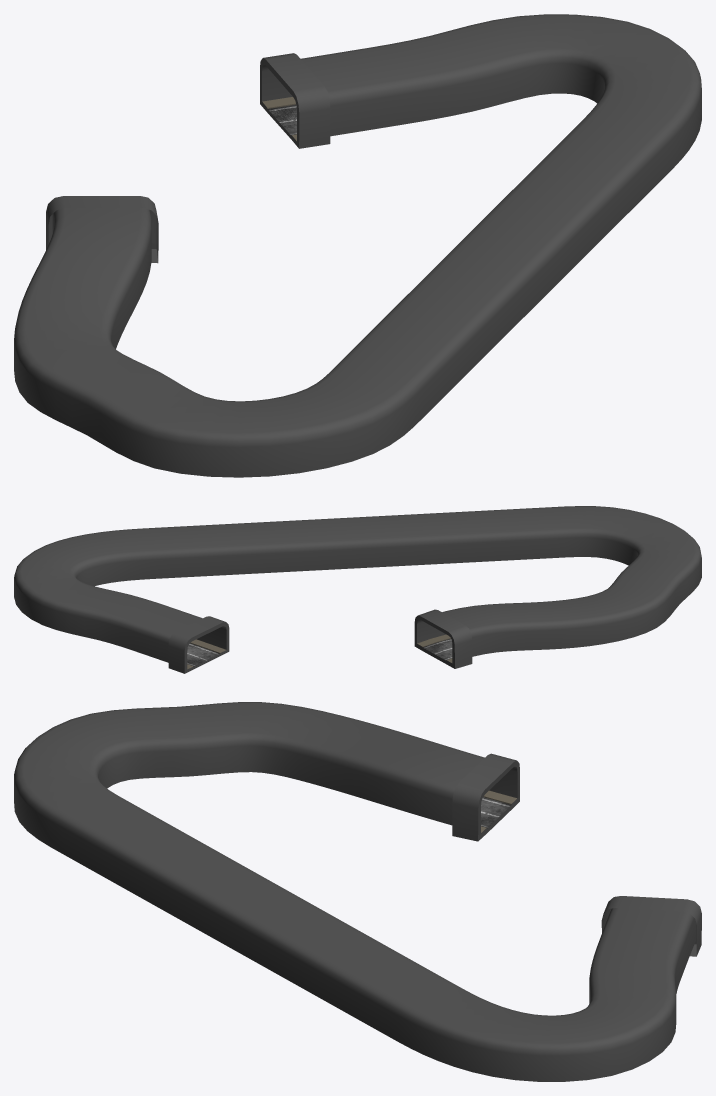
File: demo_tunnel.dae
The picture shows the model from 3 angles, top to bottom: view 1: azimuth 30°, elevation 25°; view 2: azimuth 150°, elevation 25°; view 3: azimuth 270°, elevation 25°; orthographic projection. The views are drawn at different scales.
Parts seen in each view (by area): view 1: road_tunnel; view 2: road_tunnel; view 3: road_tunnel.
Part boxes in pixels (bbox=[...]): road_tunnel: bbox=[14, 14, 701, 477]; road_tunnel: bbox=[14, 506, 701, 673]; road_tunnel: bbox=[14, 702, 701, 1081].
Bounding box in the file's own units: 85.24 × 71.26 × 6.42.
